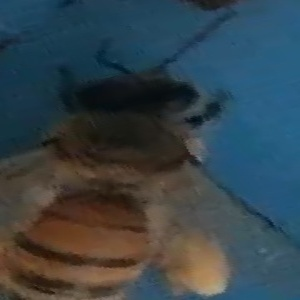bee: (5, 36, 293, 300)
